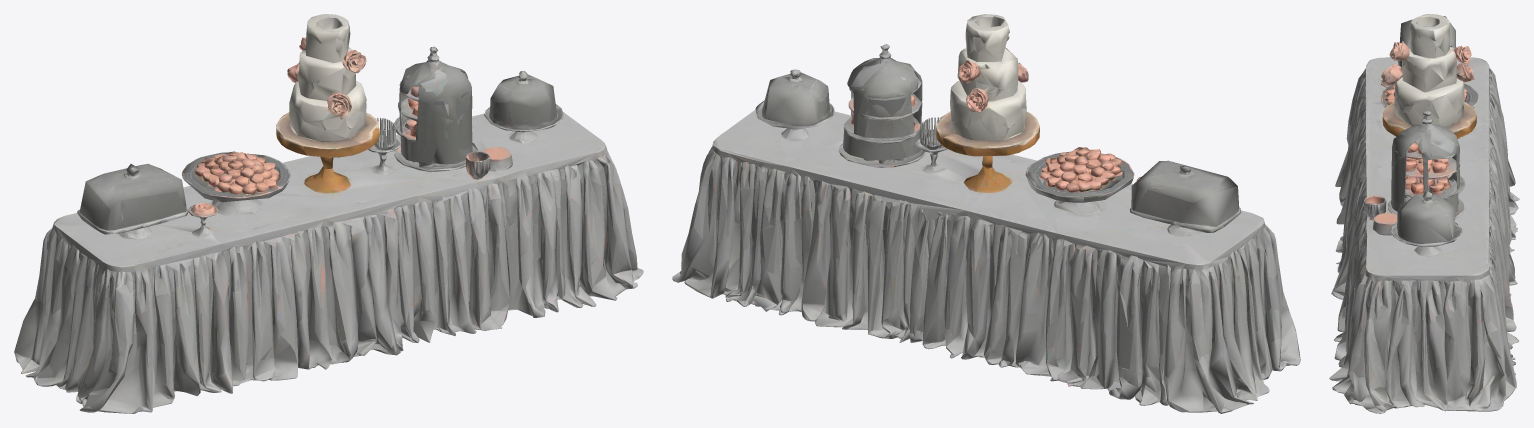
Rendered from dessertTable-medio.glb.
The picture shows the model from 3 angles, left to right: view 1: azimuth 30°, elevation 25°; view 2: azimuth 150°, elevation 25°; view 3: azimuth 270°, elevation 25°; orthographic projection. The views are drawn at different scales.
Size of the model in its own units: 1.9 by 0.9462 by 0.6087.
1 material, 1 textured.
